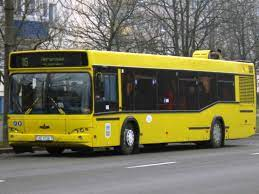bus: (6, 48, 257, 155)
